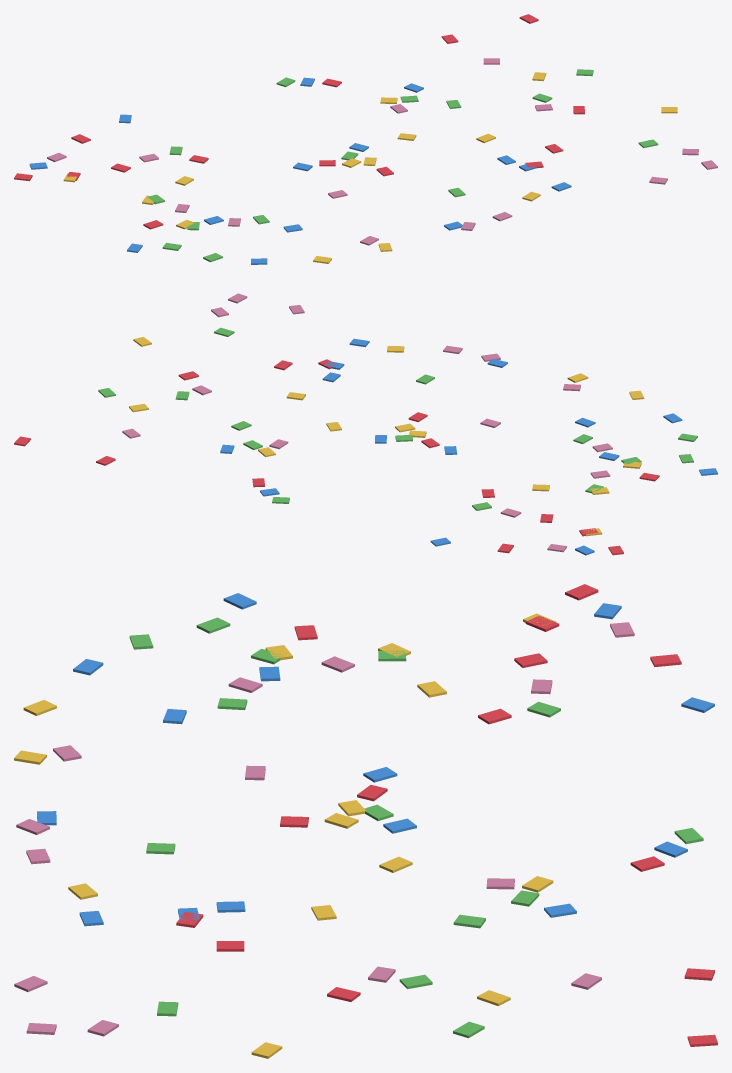
Rendered from confetti.fbx.
3 views of the same model, one above another, from view 1: azimuth 30°, elevation 25°; view 2: azimuth 150°, elevation 25°; view 3: azimuth 270°, elevation 25° (orthographic). The views are drawn at different scales.
Visible parts, largest first — view 1: confetti; view 2: confetti; view 3: confetti.
Boxes of the visible parts, x1=… form: confetti: x1=14, y1=14, x2=717, y2=264; confetti: x1=14, y1=293, x2=717, y2=555; confetti: x1=14, y1=584, x2=717, y2=1058.
Size of the model in its own units: 0.8075 by 0.002 by 0.5086.
